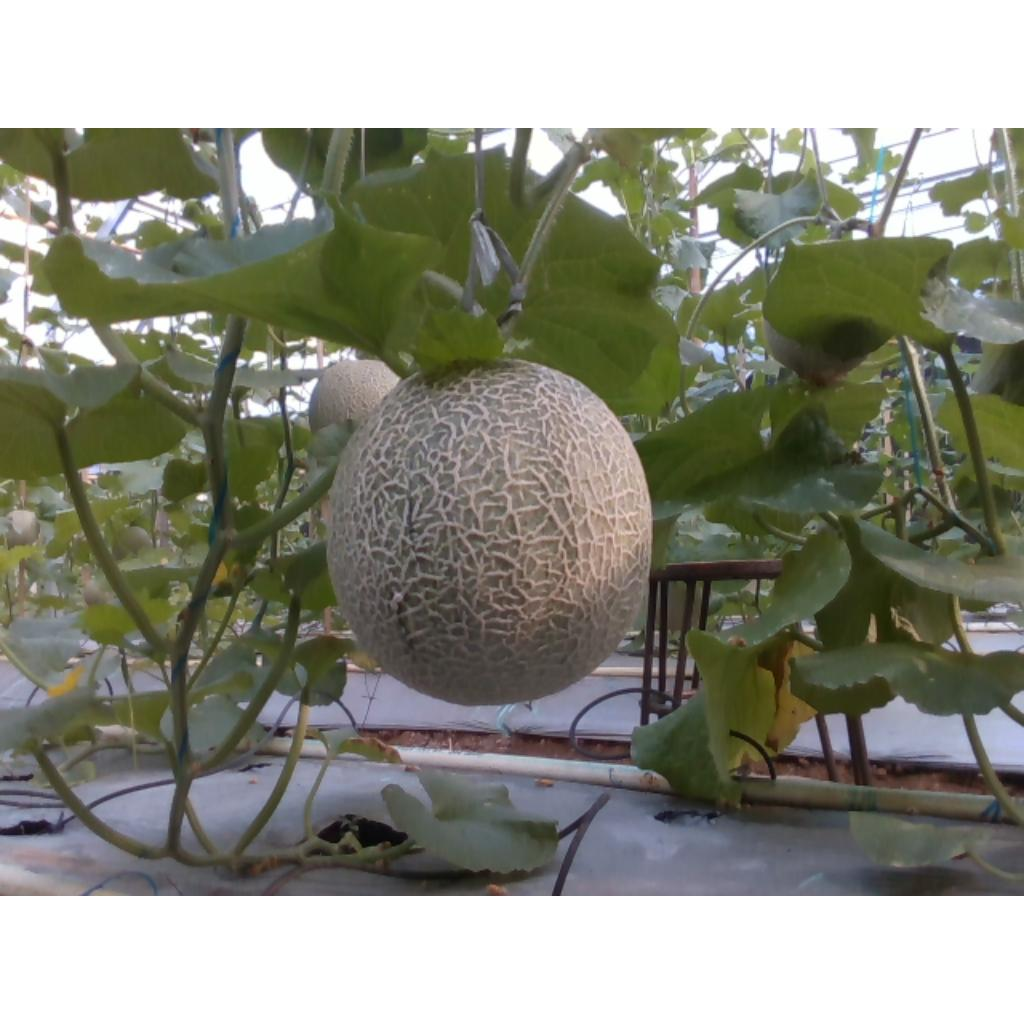melon: (328, 358, 653, 705)
